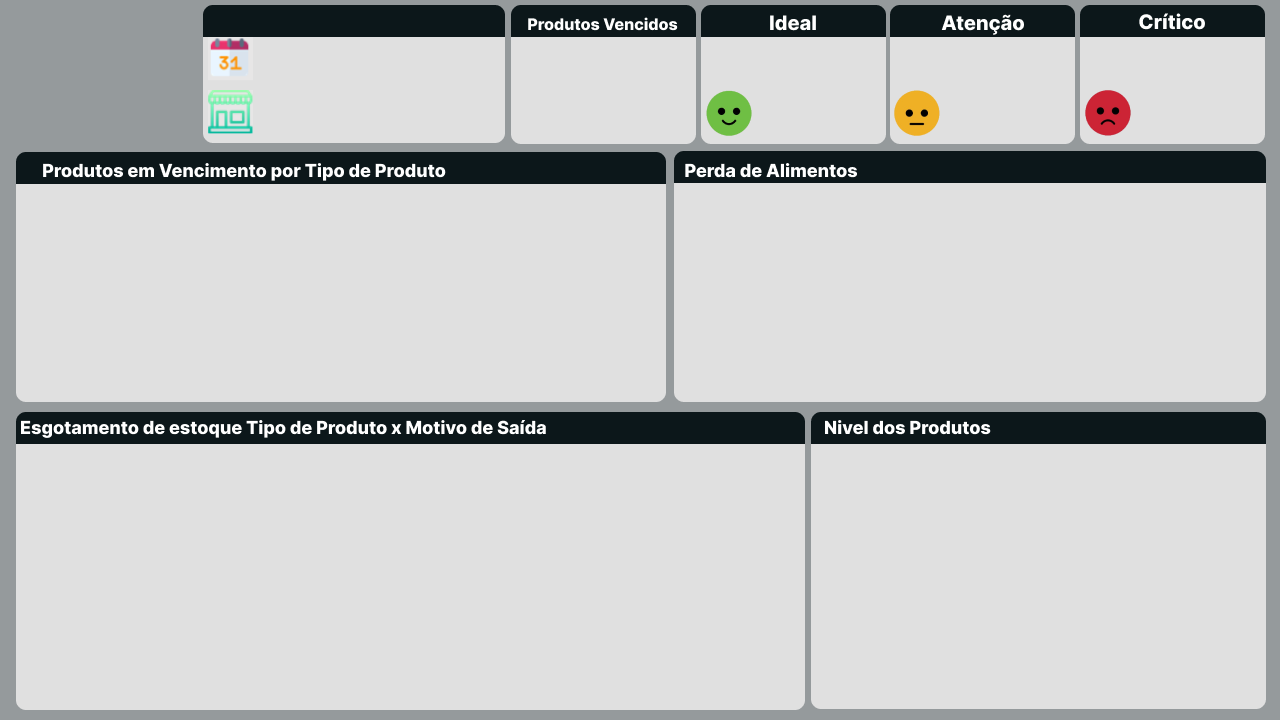

This screenshot's page, from the dashboard's own definition file:
{"tool":"powerbi","page":{"name":"Página 1","canvas":[1280,720],"ordinal":0},"visuals":[{"type":"columnChart","fields":{"Y":["Sum(public saida_estoque.quantidade)"],"Category":["public saida_estoque.motivo_saida"],"Series":["public saida_estoque.motivo_saida"]},"box":[15.6,442.2,788.9,265.6],"z":0},{"type":"slicer","fields":{"Values":["public produto.tipo"]},"box":[572.9,401.8,206.5,38.8],"z":1000},{"type":"tableEx","fields":{"Values":["public produto.nome","public item_estoque.quantidade","public item_estoque.qtd_minima"]},"box":[812.2,442.2,452.2,266.7],"z":2000},{"type":"card","fields":{"Values":["public estoque.Medida"]},"box":[702.2,39.9,184.8,72],"z":4000},{"type":"card","fields":{"Values":["public estoque.ContAmarelo"]},"box":[893.9,38.9,180.9,81.7],"z":5000},{"type":"card","fields":{"Values":["public estoque.ContVermelho"]},"box":[1087.4,38.9,177,81.7],"z":6000},{"type":"actionButton","box":[0,0,100,40],"z":7000},{"type":"slicer","fields":{"Values":["public item_estoque.Nivel_estoque"]},"box":[1038.2,402.7,155.5,47.3],"z":8000},{"type":"tableEx","fields":{"Values":["public produtoscomtemporestante.nome","public produtoscomtemporestante.validade","public produtoscomtemporestante.Dias_Vencimento","public produtoscomtemporestante.lote"]},"box":[15.6,178,464,215],"z":9000},{"type":"slicer","fields":{"Values":["public produto.tipo"]},"box":[479.5,178,186.7,215],"z":10000},{"type":"barChart","fields":{"Category":["public produto.nome"],"Y":["CountNonNull(public saida_estoque.motivo_saida)"]},"box":[673.3,182,591.3,220],"z":10001},{"type":"card","fields":{"Values":["public produtoscomtemporestante.ContVencidos"]},"box":[522,36,168,88],"z":10002},{"type":"slicer","fields":{"Values":["Calendario.Date.Variation.Hierarquia de datas.Ano","Calendario.Date.Variation.Hierarquia de datas.Mês","Calendario.Date.Variation.Hierarquia de datas.Dia"]},"box":[266,31,232,49],"z":10003},{"type":"slicer","fields":{"Values":["public estoque.categoria"]},"box":[266,87,232,49],"z":10004}]}

Visuals, with their boxes in screenshot pixels (x1, y1, x2, y2), scaled from the page's 1280x720 canvas onto the 1280x720 screenshot:
columnChart - Sum(public saida_estoque.quantidade) x public saida_estoque.motivo_saida: x1=16, y1=442, x2=804, y2=708
slicer - public produto.tipo: x1=573, y1=402, x2=779, y2=441
tableEx - public produto.nome x public item_estoque.quantidade: x1=812, y1=442, x2=1264, y2=709
card - public estoque.Medida: x1=702, y1=40, x2=887, y2=112
card - public estoque.ContAmarelo: x1=894, y1=39, x2=1075, y2=121
card - public estoque.ContVermelho: x1=1087, y1=39, x2=1264, y2=121
actionButton: x1=0, y1=0, x2=100, y2=40
slicer - public item_estoque.Nivel_estoque: x1=1038, y1=403, x2=1194, y2=450
tableEx - public produtoscomtemporestante.nome x public produtoscomtemporestante.validade: x1=16, y1=178, x2=480, y2=393
slicer - public produto.tipo: x1=480, y1=178, x2=666, y2=393
barChart - public produto.nome x CountNonNull(public saida_estoque.motivo_saida): x1=673, y1=182, x2=1265, y2=402
card - public produtoscomtemporestante.ContVencidos: x1=522, y1=36, x2=690, y2=124
slicer - Calendario.Date.Variation.Hierarquia de datas.Ano x Calendario.Date.Variation.Hierarquia de datas.Mês: x1=266, y1=31, x2=498, y2=80
slicer - public estoque.categoria: x1=266, y1=87, x2=498, y2=136
